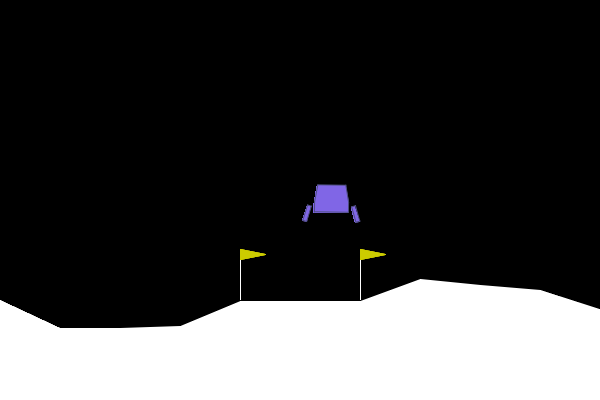lander: (301, 183, 361, 224)
